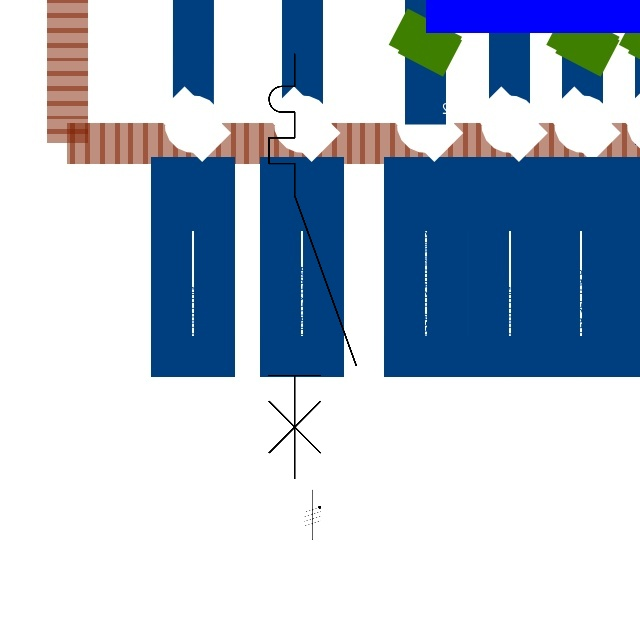interruptor_termomagnetico: (258, 43, 367, 489)
